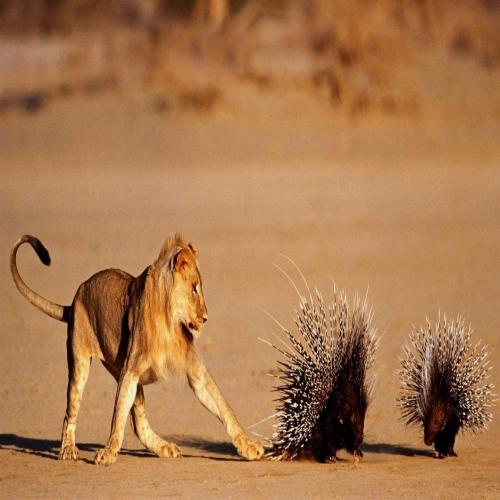lion-endangered: (10, 229, 264, 464)
